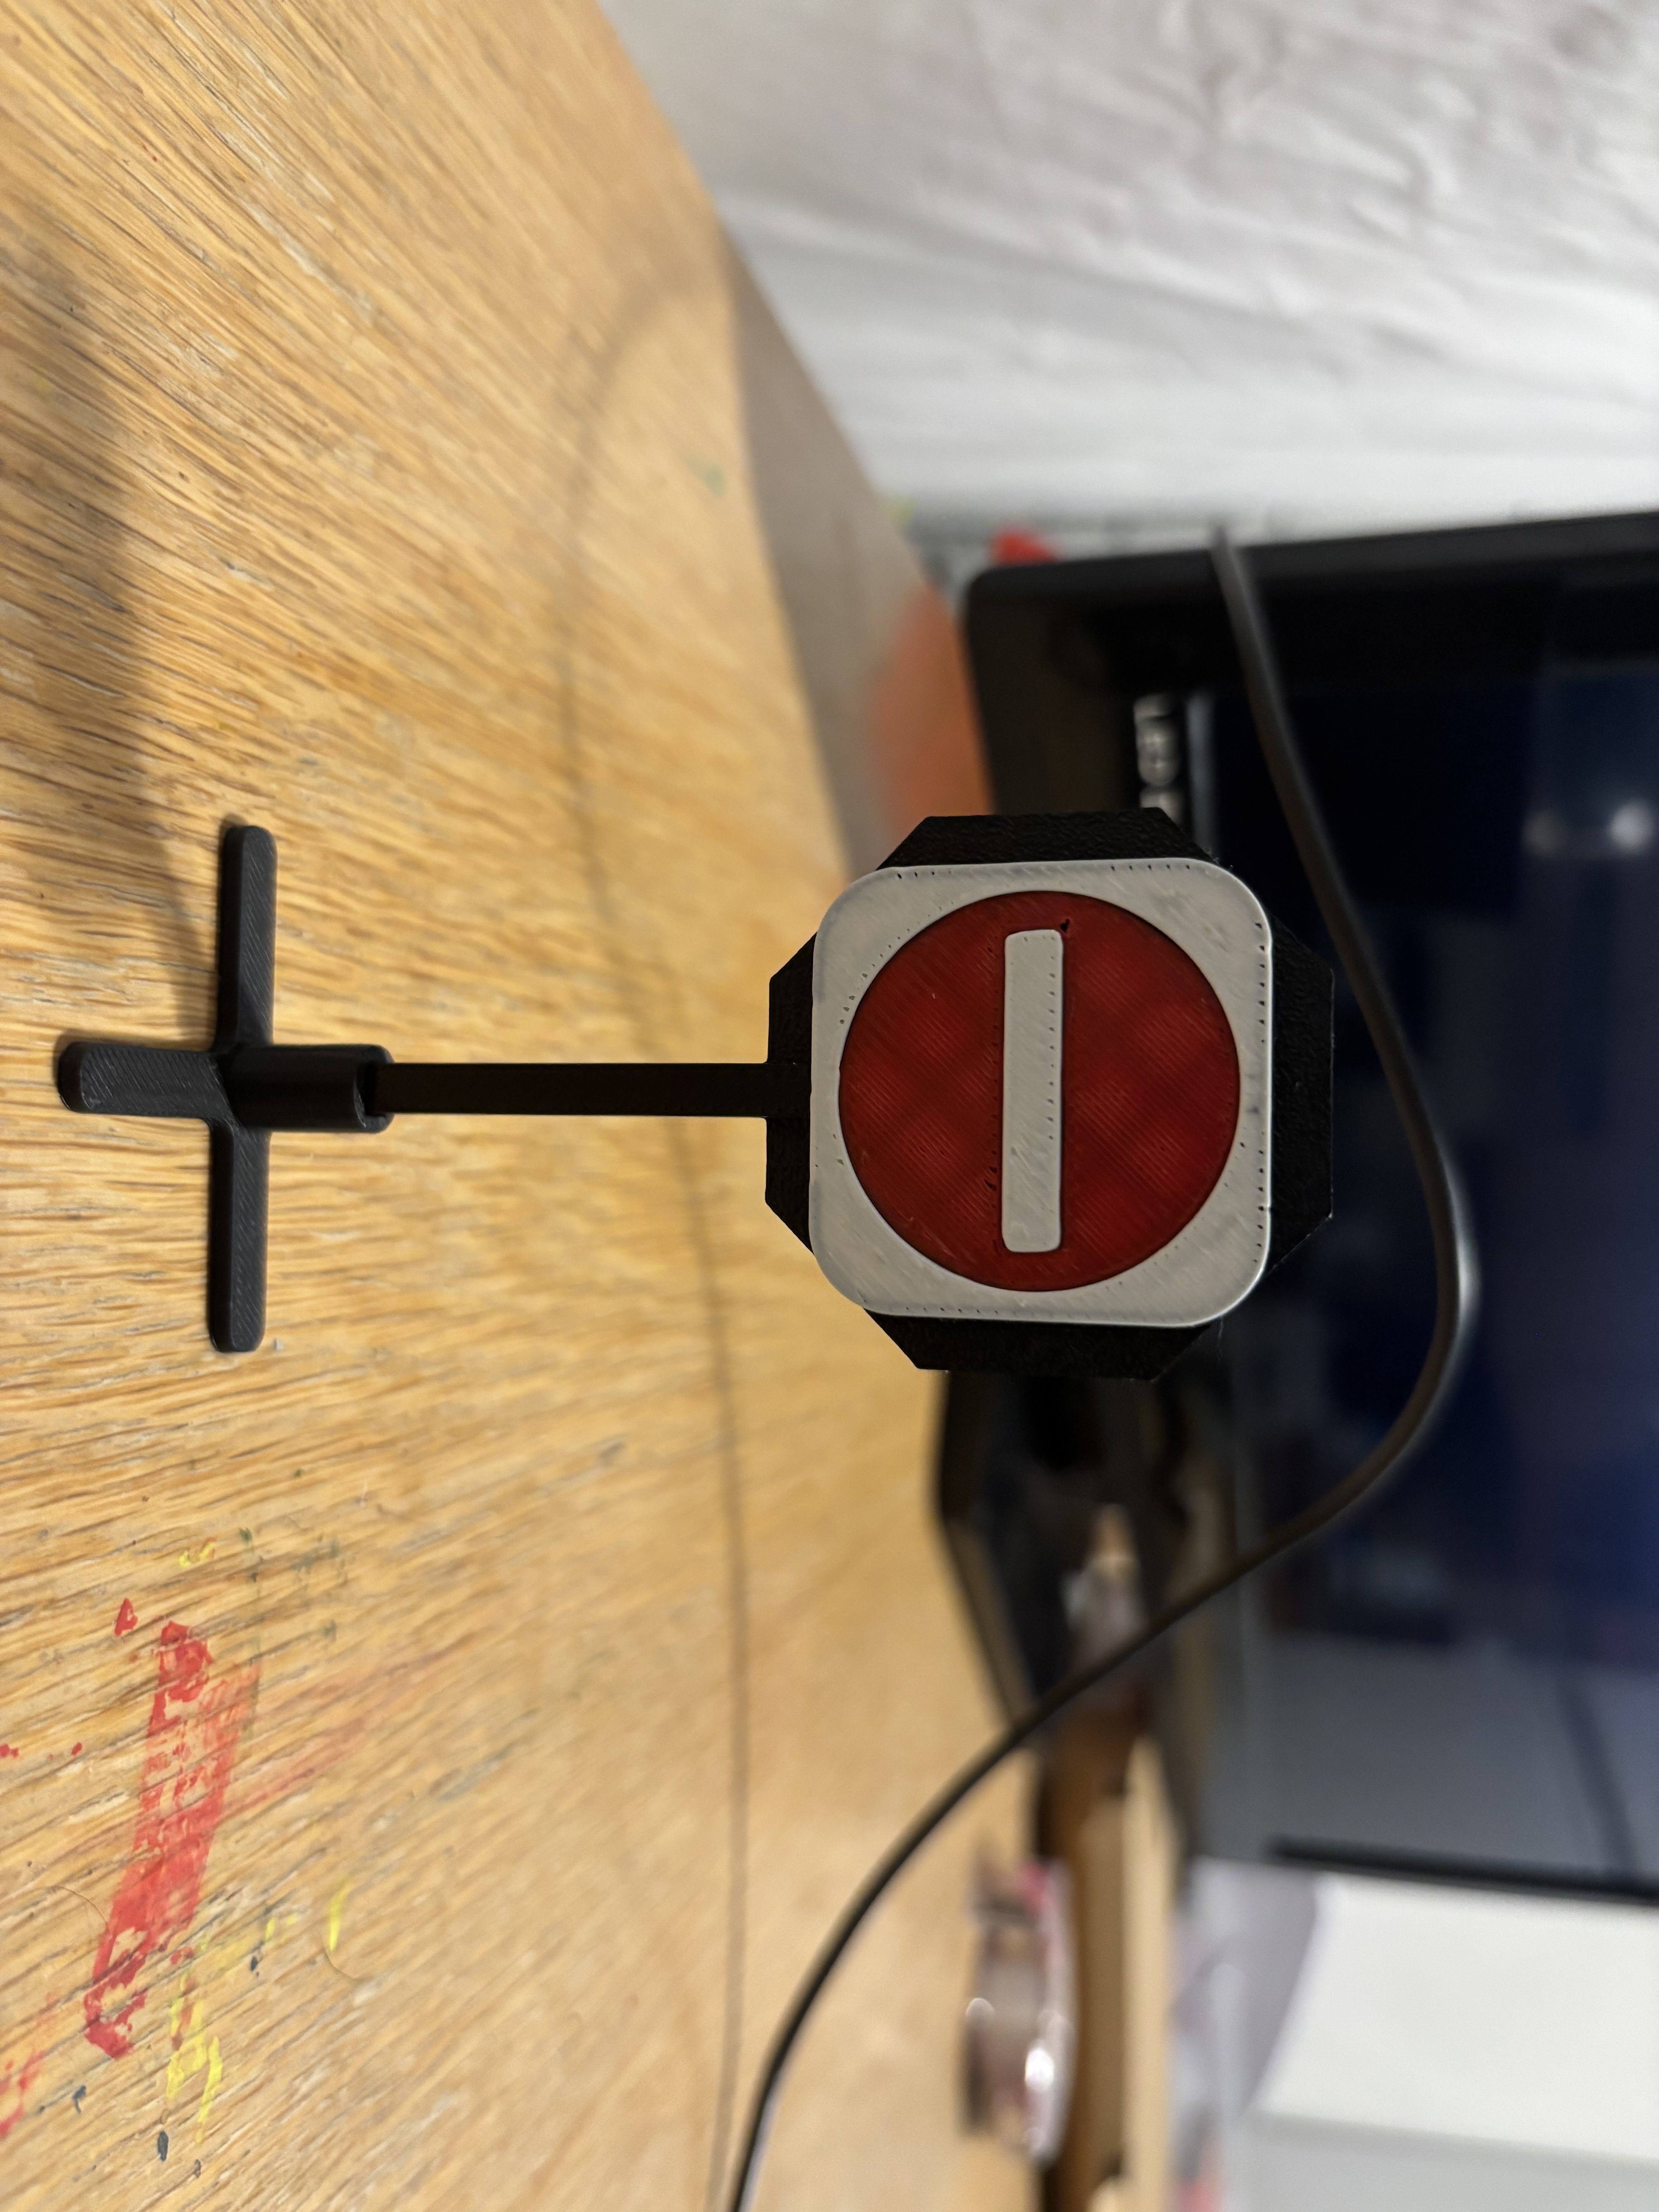sign_noentry: (800, 853, 1286, 1355)
